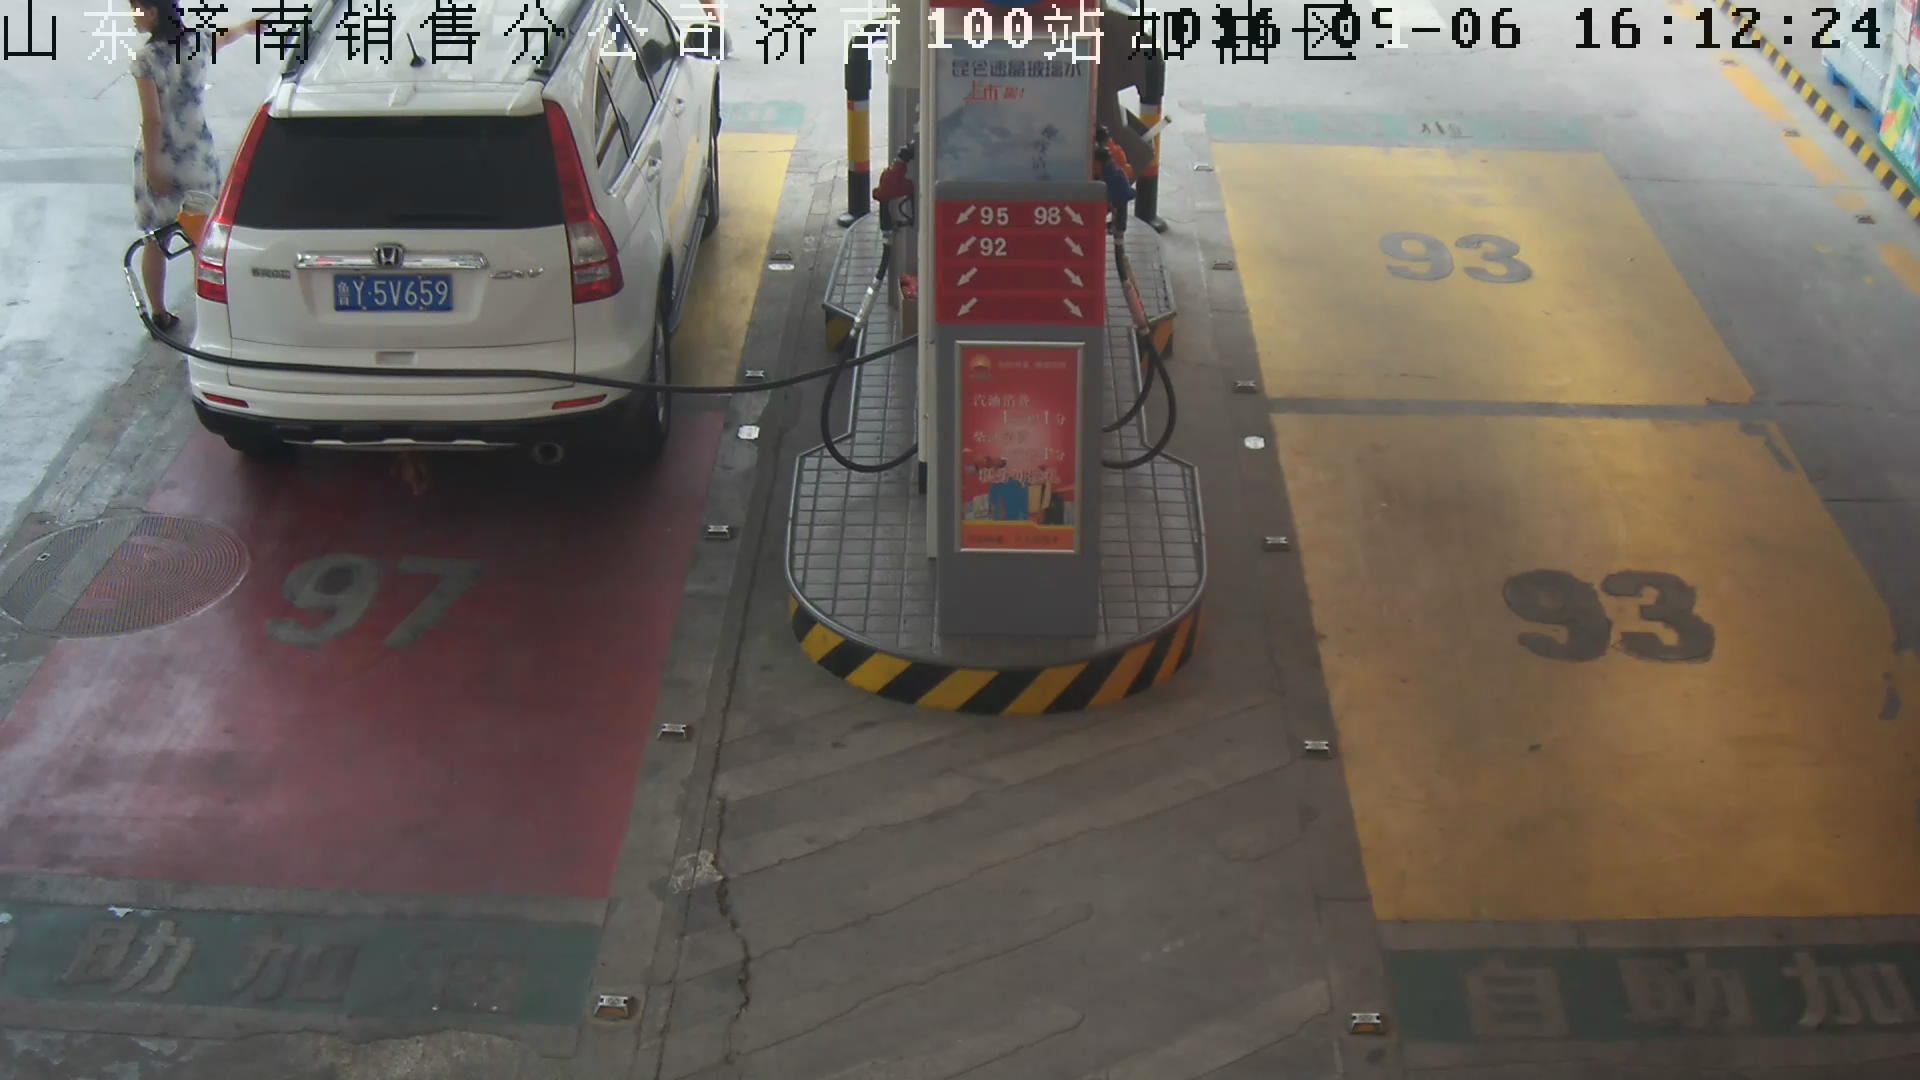blue: (332, 276, 454, 316)
